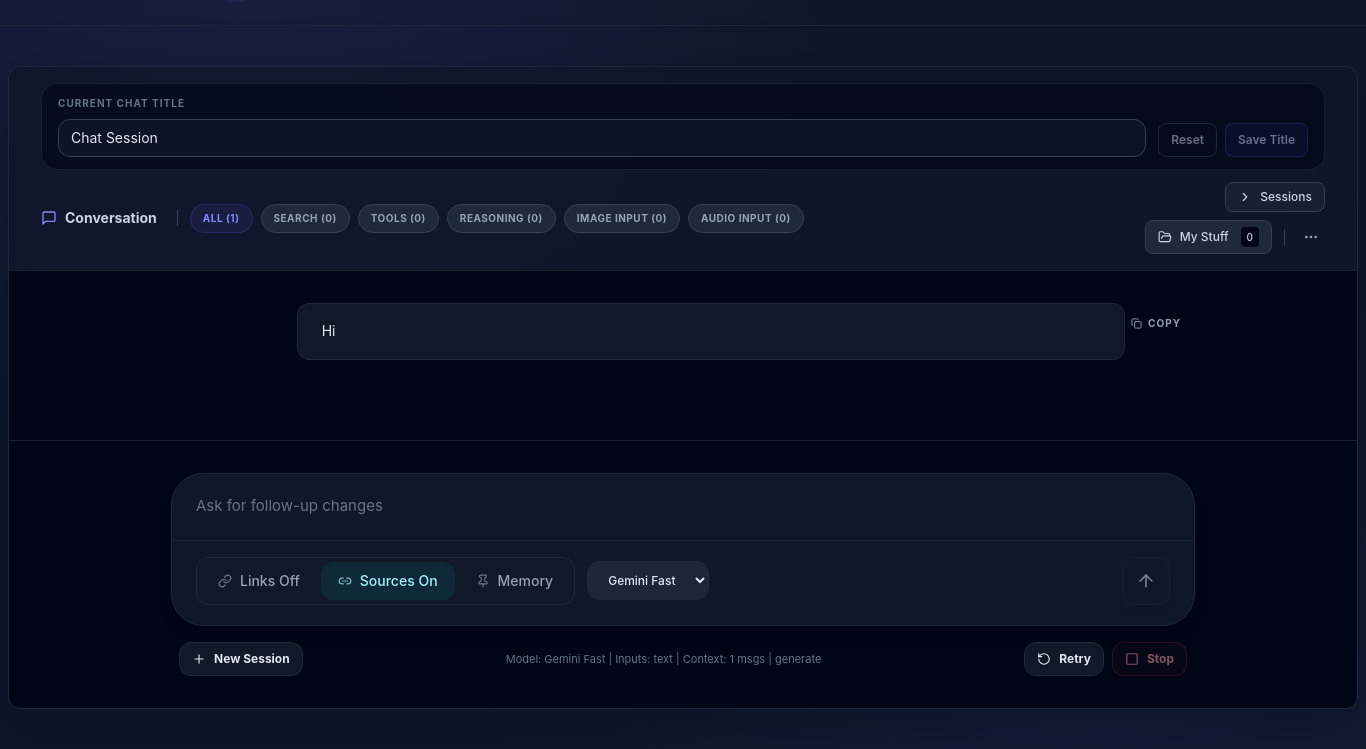
Scenario: AI Chat capture UI › opens project picker when no projectId is present
Click the button named "More actions" at point(1311, 237), box [1297,223,1325,251]
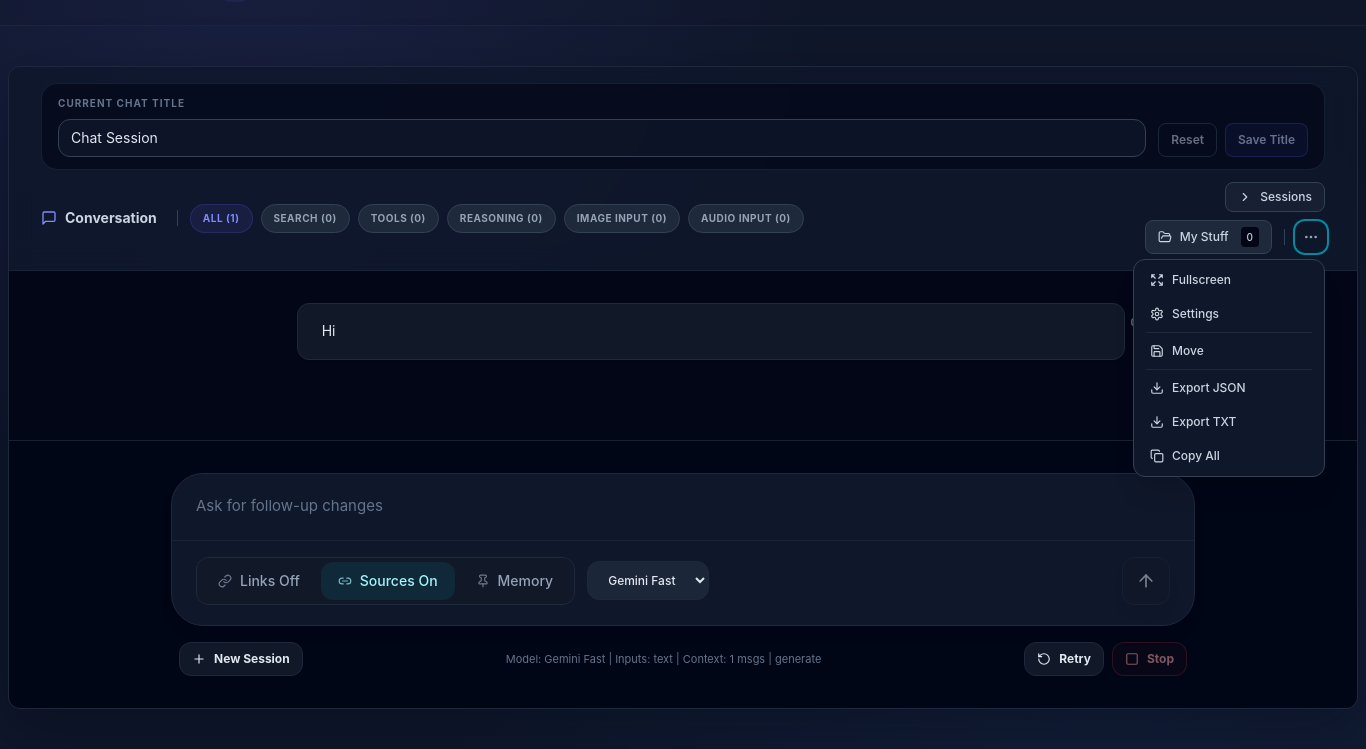
Click the menu item "Move" at point(1229, 351), box [1138,335,1320,367]
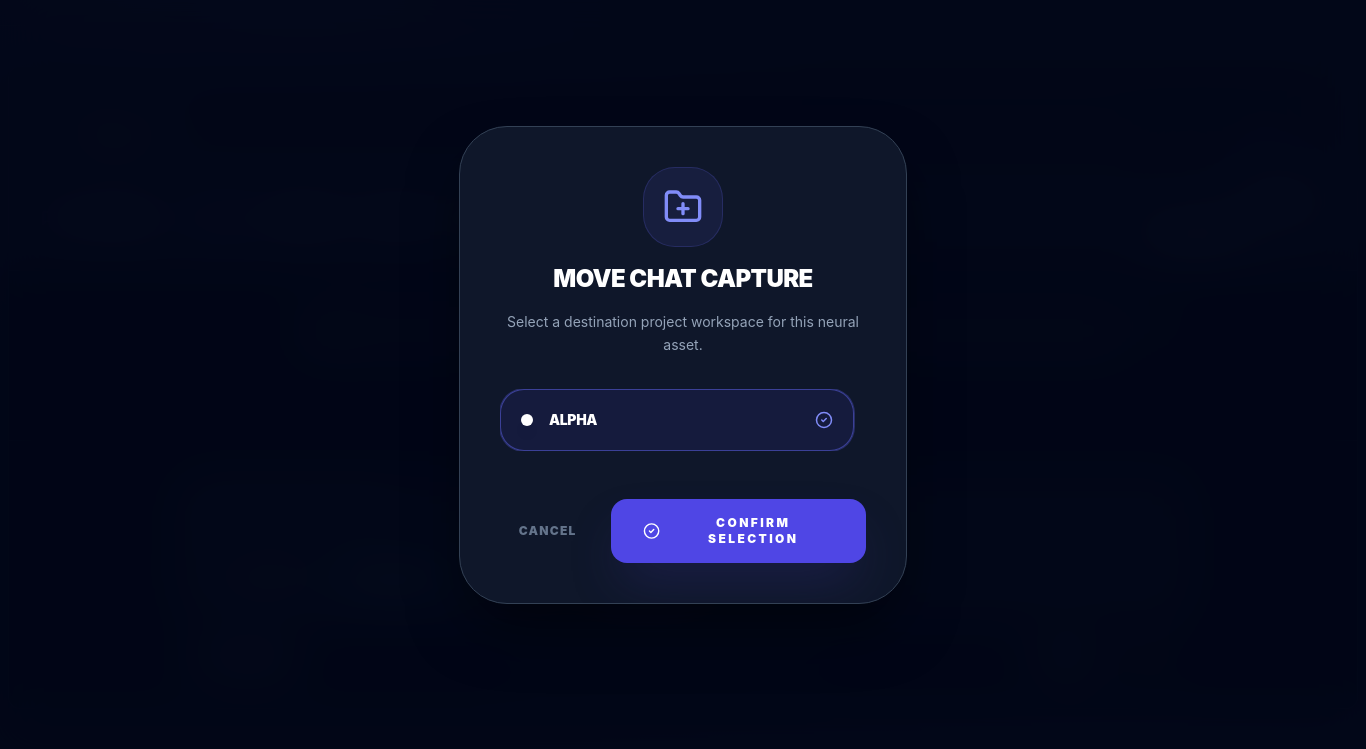
expect the heading "Move Chat Capture" is shown: met, box [553,264,813,293]
